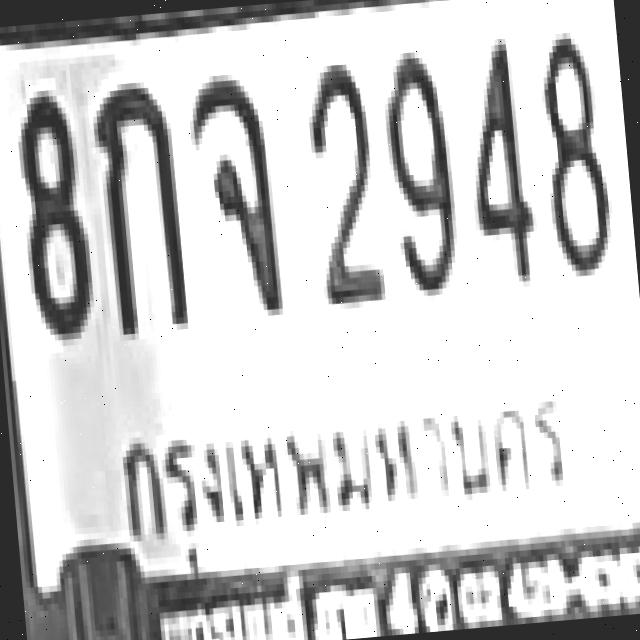10GorGai: (90, 76, 188, 332)
17ChorChan: (185, 66, 279, 314)
2: (297, 56, 383, 305)
4: (458, 31, 538, 284)
8: (9, 88, 92, 336), (531, 27, 614, 275)
9: (374, 44, 458, 292)
Bangkok: (106, 366, 580, 560)
